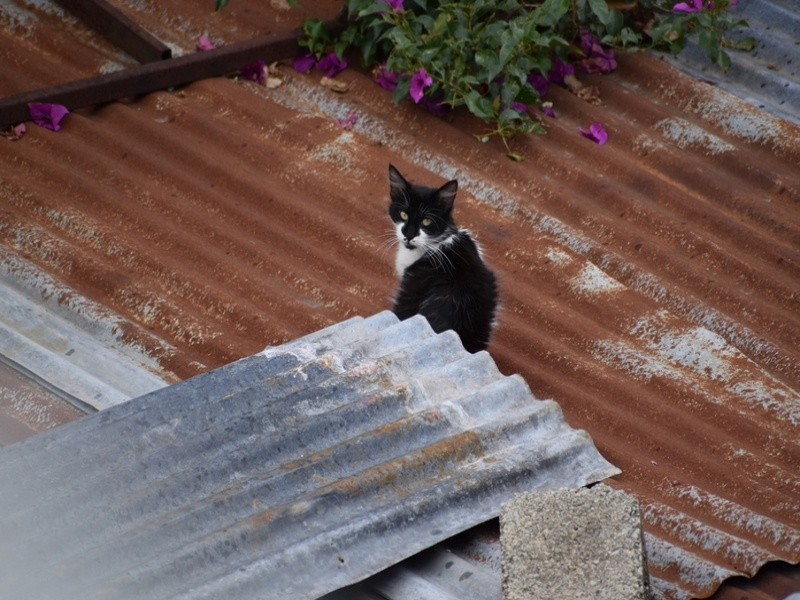cat: (378, 162, 502, 369)
